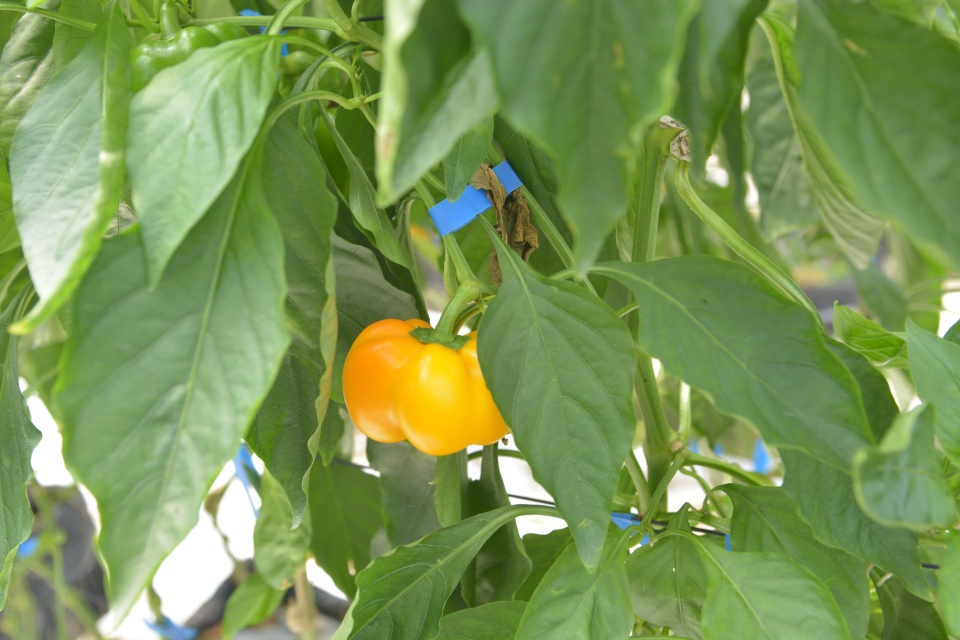fruit: (340, 314, 512, 457), (125, 20, 252, 93)
pedicle: (409, 325, 474, 352)
